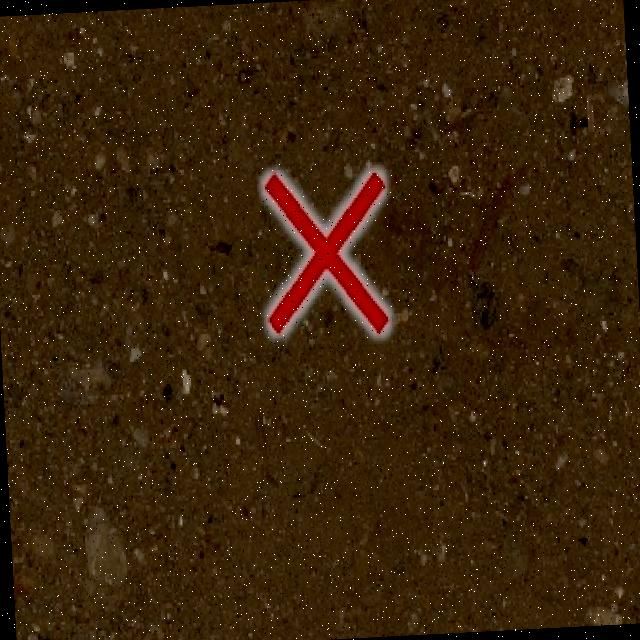x_marker: (262, 168, 389, 338)
